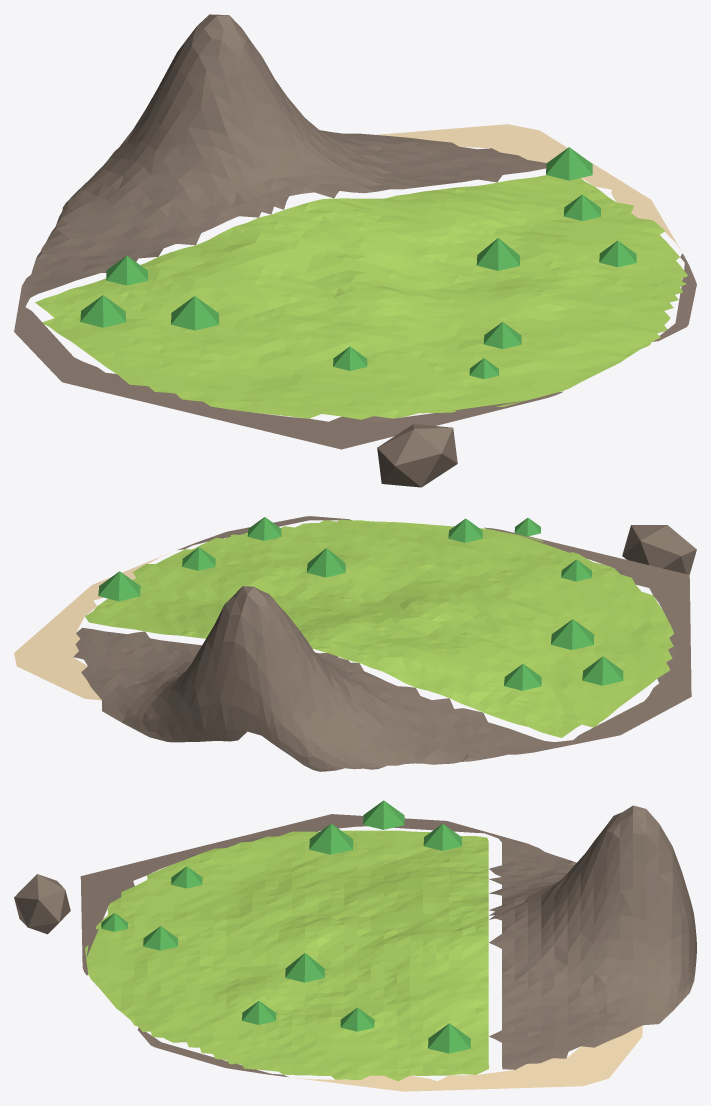
Rendered from island2.glb.
3 views of the same model, one above another, from view 1: azimuth 30°, elevation 25°; view 2: azimuth 150°, elevation 25°; view 3: azimuth 270°, elevation 25° (orthographic). The views are drawn at different scales.
Visible parts, largest first — view 1: Island, CoastBoulder_01, TreeA_09, TreeA_108, TreeA_109, TreeA_14, TreeA_110, TreeA_106; view 2: Island, CoastBoulder_01, TreeA_09, TreeA_108, TreeA_109, TreeA_14, TreeA_110, TreeA_106, TreeA_104, TreeA_100, TreeA_103; view 3: Island, CoastBoulder_01, TreeA_09, TreeA_108, TreeA_109, TreeA_14, TreeA_110, TreeA_106, TreeA_100, TreeA_104, TreeA_103.
Part boxes in pixels (left/top/right/bottom): Island: left=14, top=14, right=696, bottom=449; CoastBoulder_01: left=377, top=424, right=457, bottom=487; TreeA_09: left=171, top=296, right=218, bottom=330; TreeA_108: left=546, top=147, right=592, bottom=180; TreeA_109: left=80, top=295, right=125, bottom=327; TreeA_14: left=476, top=238, right=519, bottom=270; TreeA_110: left=106, top=256, right=147, bottom=285; TreeA_106: left=483, top=322, right=521, bottom=348; Island: left=14, top=516, right=691, bottom=771; CoastBoulder_01: left=622, top=525, right=696, bottom=574; TreeA_09: left=551, top=619, right=594, bottom=649; TreeA_108: left=98, top=571, right=140, bottom=601; TreeA_109: left=582, top=656, right=623, bottom=685; TreeA_14: left=307, top=548, right=345, bottom=577; TreeA_110: left=504, top=664, right=541, bottom=690; TreeA_106: left=448, top=518, right=482, bottom=542; TreeA_104: left=247, top=517, right=281, bottom=540; TreeA_100: left=182, top=547, right=215, bottom=570; TreeA_103: left=561, top=559, right=591, bottom=581; Island: left=80, top=805, right=696, bottom=1091; CoastBoulder_01: left=14, top=874, right=70, bottom=934; TreeA_09: left=309, top=823, right=353, bottom=854; TreeA_108: left=428, top=1023, right=470, bottom=1053; TreeA_109: left=363, top=800, right=404, bottom=829; TreeA_14: left=285, top=953, right=324, bottom=982; TreeA_110: left=423, top=824, right=461, bottom=850; TreeA_106: left=143, top=926, right=177, bottom=950; TreeA_100: left=340, top=1007, right=374, bottom=1031; TreeA_104: left=242, top=1001, right=276, bottom=1024; TreeA_103: left=171, top=866, right=202, bottom=888.
Size of what is drawn, in the model's own units: 188 by 57.31 by 195.
